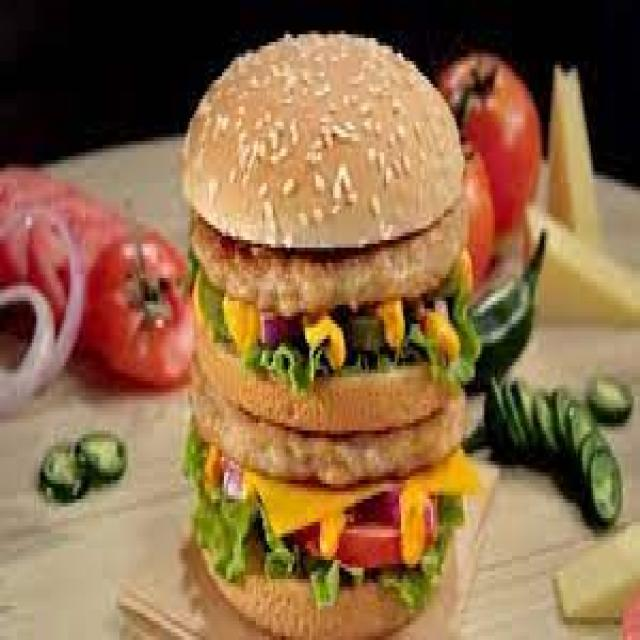햄버거: (182, 26, 462, 640)
